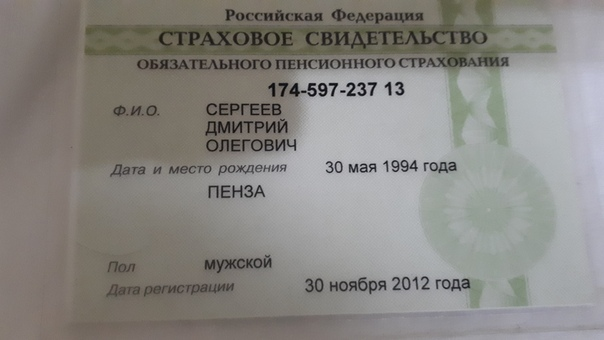text: (304, 271, 472, 294), (269, 77, 412, 98), (321, 157, 459, 176), (202, 116, 293, 136), (203, 100, 289, 119), (204, 136, 300, 153), (200, 254, 281, 273), (203, 183, 278, 200)
